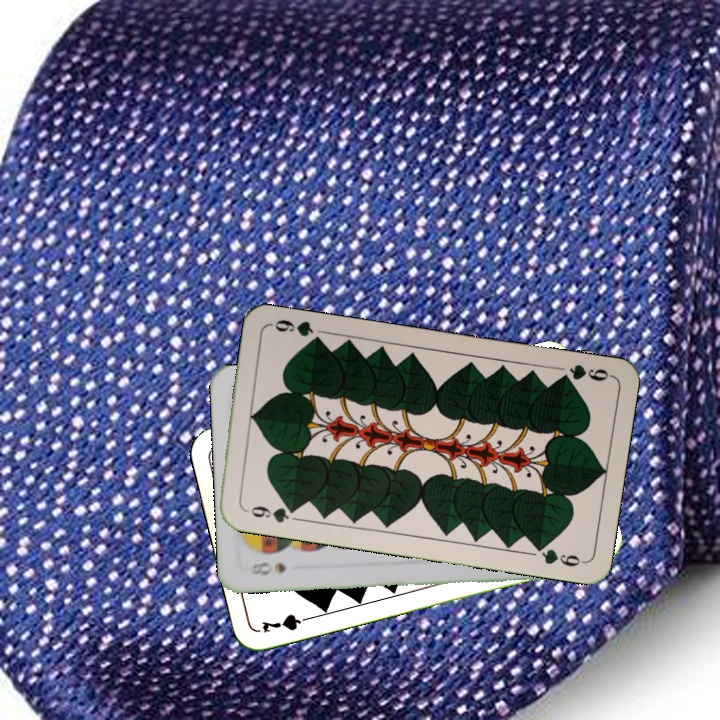G7: (258, 610, 317, 636)
G9: (553, 360, 614, 385), (240, 501, 300, 525)
S8: (247, 558, 288, 578)
